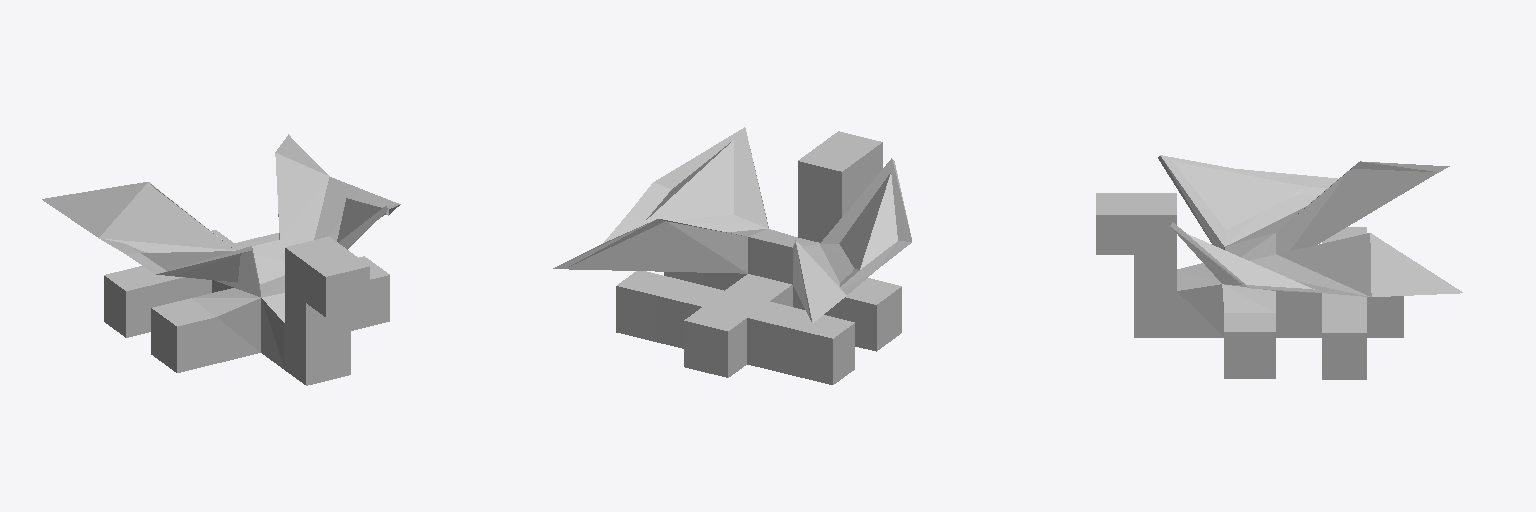
The model's file is dragon.obj.
3 renders of one model, left to right at view 1: azimuth 30°, elevation 25°; view 2: azimuth 150°, elevation 25°; view 3: azimuth 270°, elevation 25°, orthographic.
Parts seen in each view (by area): view 1: Cube.001; view 2: Cube.001; view 3: Cube.001.
Boxes of the visible parts, x1,y1,x2,y2 form: Cube.001: [42, 134, 400, 385]; Cube.001: [553, 127, 911, 384]; Cube.001: [1096, 155, 1462, 379].
Size of the model in its own units: 11.65 by 6.1 by 14.34.